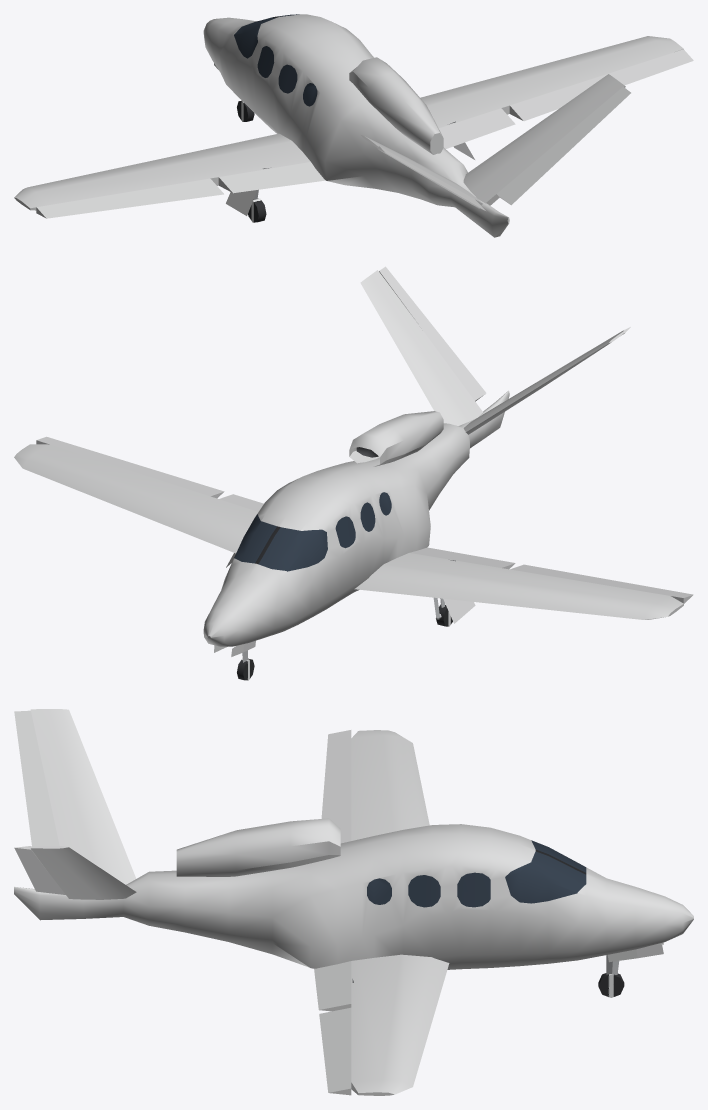
File: Cirrus_Vision_Jet_LOD3.glb
3 views of the same model, one above another, from view 1: azimuth 30°, elevation 25°; view 2: azimuth 150°, elevation 25°; view 3: azimuth 270°, elevation 25° (orthographic). The views are drawn at different scales.
Parts seen in each view (by area): view 1: Fuselage, Wing_Left, Wing_Right, VTail_Right, Nacelle, Aileron_Left, Aileron_Right, Ruddervator_Right, Flap_Left, Flap_Right, Ruddervator_Left, VTail_Left (+1 smaller); view 2: Fuselage, Wing_Left, Wing_Right, VTail_Right, Nacelle, Ruddervator_Right, Aileron_Right, VTail_Left, Aileron_Left, Flap_Left; view 3: Fuselage, Wing_Right, VTail_Left, Wing_Left, Nacelle, Ruddervator_Left, VTail_Right, Aileron_Left, Aileron_Right, Flap_Right, Ruddervator_Right.
Part boxes in pixels (x1=…): Fuselage: x1=203, y1=14, x2=509, y2=237; Wing_Left: x1=14, y1=133, x2=310, y2=210; Wing_Right: x1=420, y1=36, x2=683, y2=128; VTail_Right: x1=463, y1=74, x2=625, y2=205; Nacelle: x1=349, y1=57, x2=443, y2=154; Aileron_Left: x1=36, y1=178, x2=223, y2=218; Aileron_Right: x1=509, y1=49, x2=693, y2=121; Ruddervator_Right: x1=497, y1=86, x2=630, y2=205; Flap_Left: x1=218, y1=162, x2=325, y2=193; Flap_Right: x1=438, y1=108, x2=515, y2=148; Ruddervator_Left: x1=377, y1=146, x2=485, y2=210; VTail_Left: x1=361, y1=135, x2=482, y2=208; Fuselage: x1=203, y1=390, x2=509, y2=646; Wing_Left: x1=354, y1=553, x2=683, y2=619; Wing_Right: x1=14, y1=444, x2=258, y2=553; VTail_Right: x1=360, y1=270, x2=482, y2=425; Nacelle: x1=349, y1=411, x2=443, y2=466; Ruddervator_Right: x1=379, y1=266, x2=486, y2=401; Aileron_Right: x1=36, y1=436, x2=224, y2=498; VTail_Left: x1=463, y1=330, x2=625, y2=434; Aileron_Left: x1=510, y1=564, x2=693, y2=603; Flap_Left: x1=409, y1=547, x2=515, y2=569; Fuselage: x1=14, y1=824, x2=693, y2=969; Wing_Right: x1=351, y1=954, x2=449, y2=1095; VTail_Left: x1=30, y1=709, x2=136, y2=884; Wing_Left: x1=351, y1=730, x2=429, y2=840; Nacelle: x1=176, y1=818, x2=340, y2=876; Ruddervator_Left: x1=14, y1=710, x2=59, y2=846; VTail_Right: x1=30, y1=846, x2=136, y2=899; Aileron_Left: x1=321, y1=730, x2=351, y2=843; Aileron_Right: x1=319, y1=1007, x2=351, y2=1095; Flap_Right: x1=314, y1=961, x2=351, y2=1011; Ruddervator_Right: x1=14, y1=846, x2=65, y2=894.
Bounding box in the file's own units: 11.8 × 3.32 × 9.36.
6 materials, 1 textured.
